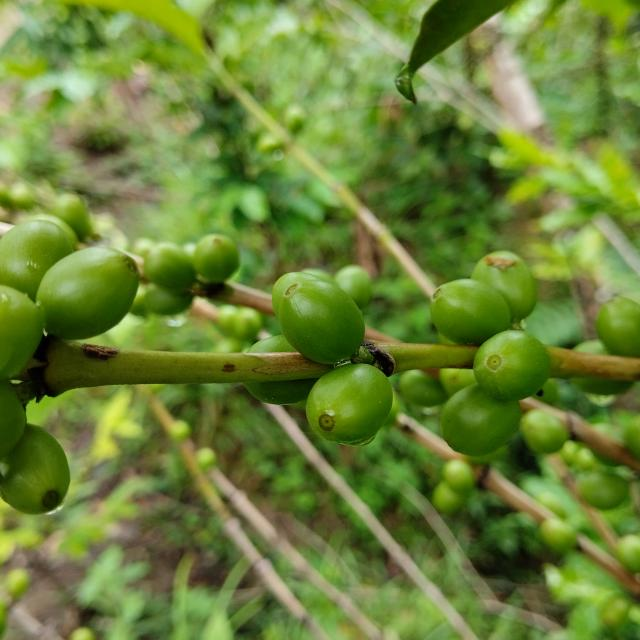green: (35, 247, 139, 340), (278, 280, 365, 364), (306, 364, 393, 446), (0, 424, 69, 515), (441, 383, 522, 457), (0, 220, 72, 301), (474, 330, 552, 401), (431, 279, 512, 346), (472, 251, 538, 321), (0, 285, 42, 381), (597, 296, 640, 358), (272, 272, 319, 320), (243, 378, 318, 405), (247, 335, 296, 353)
